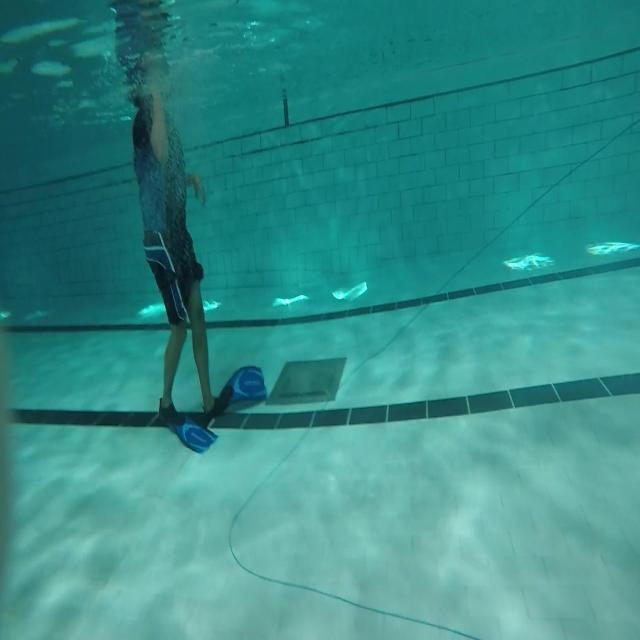human: (126, 55, 234, 426)
